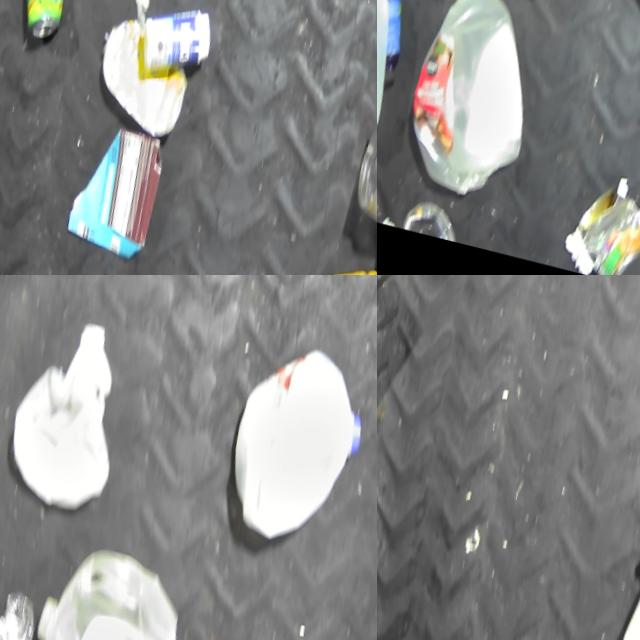can: (540, 164, 640, 275), (388, 195, 456, 243), (5, 0, 76, 42)
milk_jug: (193, 332, 377, 561), (377, 0, 557, 208), (0, 303, 143, 515), (591, 516, 640, 640), (377, 0, 406, 157)
non_white_jug: (377, 141, 405, 227)
